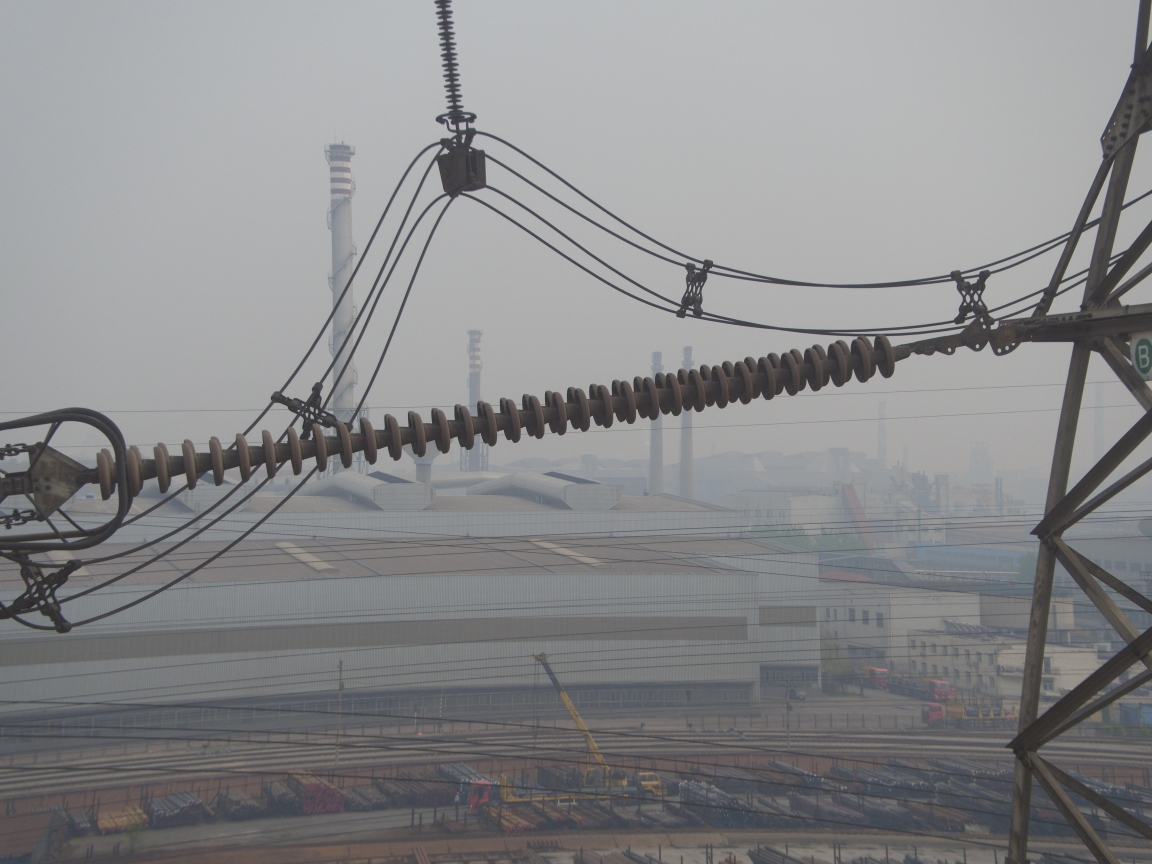insulator: (58, 331, 934, 505)
